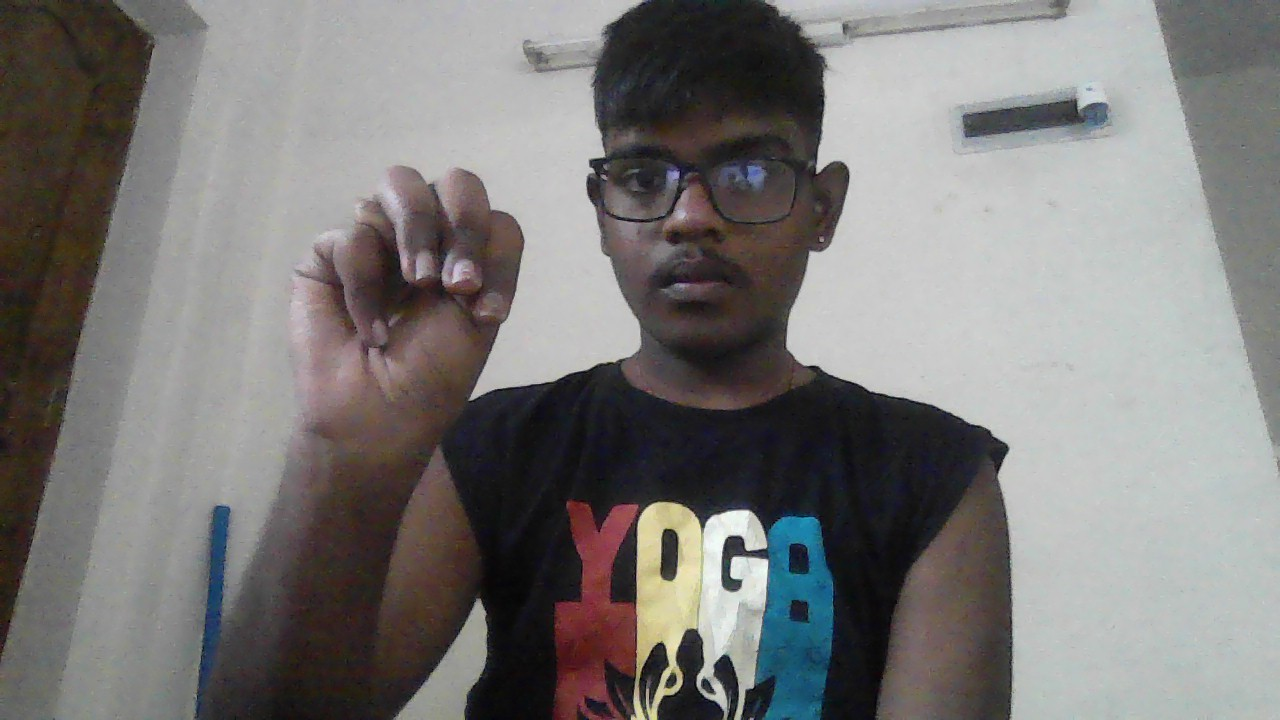M: (289, 165, 524, 458)
